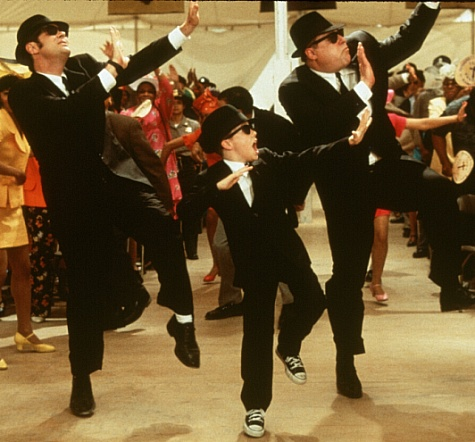15: (225, 110, 261, 164)
25: (440, 73, 461, 98)
27: (31, 16, 72, 58), (133, 78, 157, 108)
31: (305, 15, 355, 75)
41: (166, 94, 183, 115)
Coat: (277, 3, 447, 220), (8, 27, 184, 229), (176, 130, 349, 292)
Dress: (118, 74, 183, 217), (1, 108, 36, 247)
Female: (305, 15, 355, 75)
Glasses: (299, 26, 355, 52), (212, 121, 260, 142), (32, 27, 70, 40)
Hat: (281, 5, 352, 59), (192, 101, 264, 154), (3, 13, 72, 66)
Joggers: (274, 346, 310, 387), (240, 409, 269, 439)
Male: (225, 110, 261, 164), (31, 16, 72, 58), (133, 78, 157, 108), (440, 73, 461, 98), (166, 94, 183, 115)
Pants: (50, 177, 206, 376), (325, 158, 472, 356), (235, 264, 336, 411)
Shirt: (306, 65, 375, 106), (222, 157, 258, 211)
Shoes: (162, 312, 203, 370), (68, 374, 97, 419), (331, 364, 366, 399), (436, 286, 475, 315), (10, 329, 55, 354), (202, 303, 244, 321), (367, 283, 391, 306), (201, 263, 221, 284), (1, 355, 17, 372), (413, 246, 430, 258), (31, 313, 48, 325)
Socks: (333, 352, 357, 369), (172, 311, 195, 324)
Tie: (332, 69, 353, 95), (59, 71, 76, 100)
